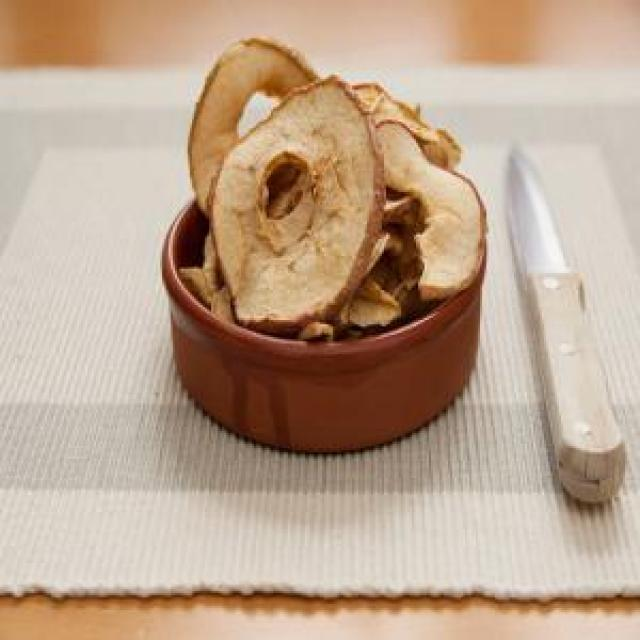knife: (504, 143, 628, 514)
